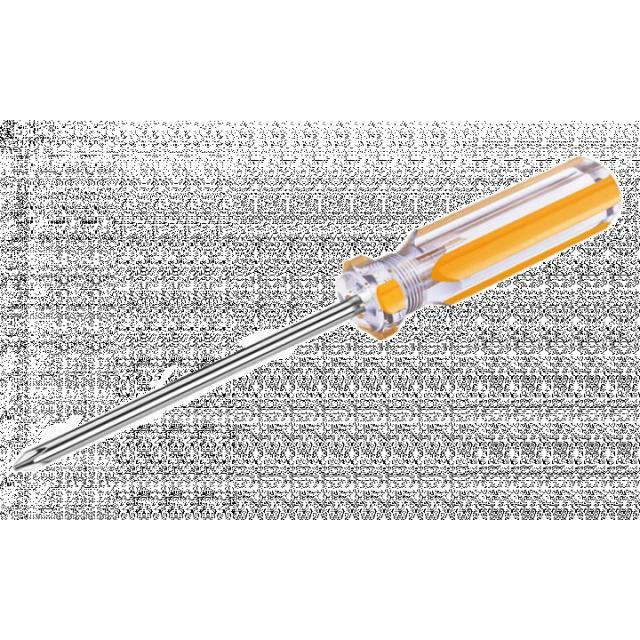screwdriver: (8, 155, 626, 478)
